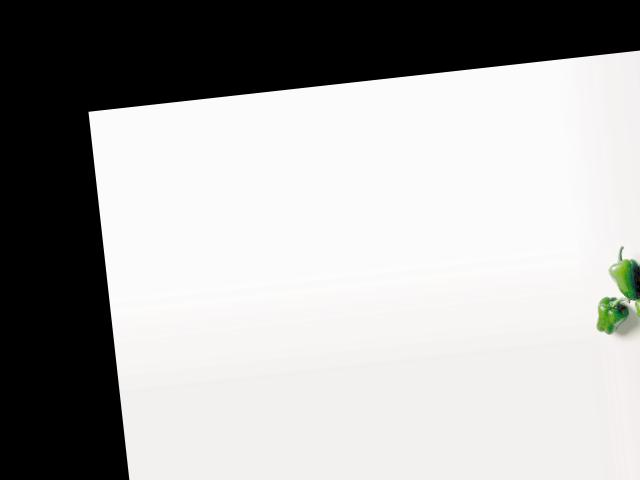bell_pepper: (632, 297, 640, 330)
